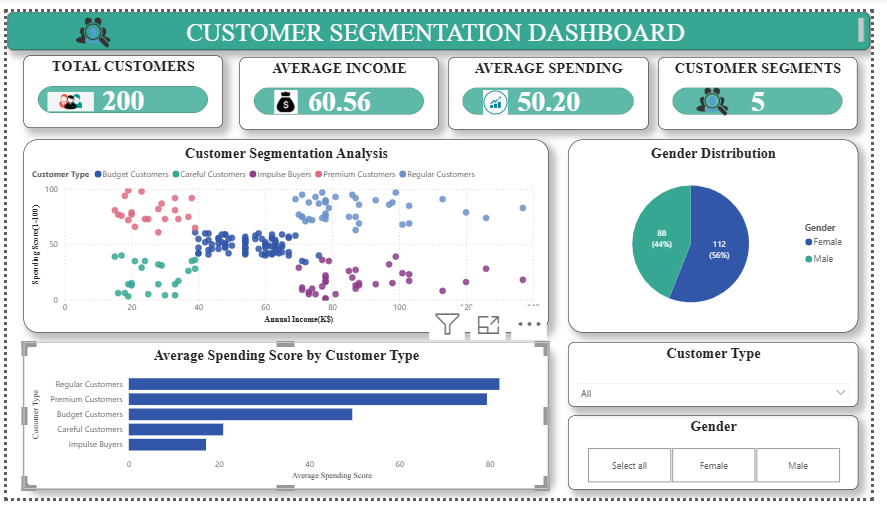

Layout of this report page (visuals, bound fields, positions):
{"tool":"powerbi","page":{"name":"Page 1","canvas":[1280,720],"ordinal":0},"visuals":[{"type":"textbox","box":[0,0,1278.4,56.9],"z":0},{"type":"cardVisual","title":"CUSTOMER SEGMENTS","fields":{"Data":["Count(Customer_Segmentation_Final.Customer Type)"]},"box":[965,67.5,295,107.5],"z":1000},{"type":"cardVisual","title":"AVERAGE SPENDING","fields":{"Data":["Avg(Customer_Segmentation_Final.Spending Score (1-100))"]},"box":[652.5,67.5,297.5,107.5],"z":2000},{"type":"cardVisual","title":"AVERAGE INCOME","fields":{"Data":["Avg(Customer_Segmentation_Final.Annual Income (k$))"]},"box":[345,67.5,295,107.5],"z":3000},{"type":"cardVisual","title":"TOTAL CUSTOMERS","fields":{"Data":["CountNonNull(Customer_Segmentation_Final.CustomerID)"]},"box":[25,65,295,107.5],"z":4000},{"type":"scatterChart","title":"Customer Segmentation Analysis","fields":{"X":["Sum(Customer_Segmentation_Final.Annual Income (k$))"],"Y":["Sum(Customer_Segmentation_Final.Spending Score (1-100))"],"Series":["Customer_Segmentation_Final.Customer Type"],"Category":["Customer_Segmentation_Final.CustomerID"]},"box":[24,188,778,286],"z":5000},{"type":"pieChart","title":"Gender Distribution","fields":{"Y":["CountNonNull(Customer_Segmentation_Final.CustomerID)"],"Category":["Customer_Segmentation_Final.Gender"]},"box":[830,188,430,286],"z":6000},{"type":"clusteredBarChart","title":"Average Spending Score by Customer Type","fields":{"Category":["Customer_Segmentation_Final.Customer Type"],"Y":["Avg(Customer_Segmentation_Final.Spending Score (1-100))"]},"box":[24,488,778,218],"z":7000},{"type":"slicer","title":"Gender","fields":{"Values":["Customer_Segmentation_Final.Gender"]},"box":[830,598,430,110],"z":8000},{"type":"slicer","title":"Customer Type","fields":{"Values":["Customer_Segmentation_Final.Customer Type"]},"box":[830,488,430,96],"z":9000},{"type":"image","box":[28,2,198,54],"z":10000},{"type":"image","box":[60,70,68.3,123.3],"z":11000},{"type":"image","box":[947.2,105.6,197.2,50],"z":12000},{"type":"image","box":[320,115,186.7,35],"z":13000},{"type":"image","box":[573.3,115,300,36.7],"z":14000}]}

Visuals, with their boxes in screenshot pixels (x1, y1, x2, y2):
textbox: {"left": 7, "top": 7, "right": 881, "bottom": 46}
"CUSTOMER SEGMENTS" cardVisual: {"left": 666, "top": 53, "right": 868, "bottom": 127}
"AVERAGE SPENDING" cardVisual: {"left": 453, "top": 53, "right": 656, "bottom": 127}
"AVERAGE INCOME" cardVisual: {"left": 243, "top": 53, "right": 444, "bottom": 127}
"TOTAL CUSTOMERS" cardVisual: {"left": 24, "top": 51, "right": 226, "bottom": 125}
"Customer Segmentation Analysis" scatterChart: {"left": 23, "top": 135, "right": 555, "bottom": 331}
"Gender Distribution" pieChart: {"left": 574, "top": 135, "right": 868, "bottom": 331}
"Average Spending Score by Customer Type" clusteredBarChart: {"left": 23, "top": 340, "right": 555, "bottom": 489}
"Gender" slicer: {"left": 574, "top": 416, "right": 868, "bottom": 491}
"Customer Type" slicer: {"left": 574, "top": 340, "right": 868, "bottom": 406}
image: {"left": 26, "top": 8, "right": 161, "bottom": 45}
image: {"left": 48, "top": 55, "right": 95, "bottom": 139}
image: {"left": 654, "top": 79, "right": 789, "bottom": 113}
image: {"left": 226, "top": 86, "right": 353, "bottom": 109}
image: {"left": 399, "top": 86, "right": 604, "bottom": 111}
